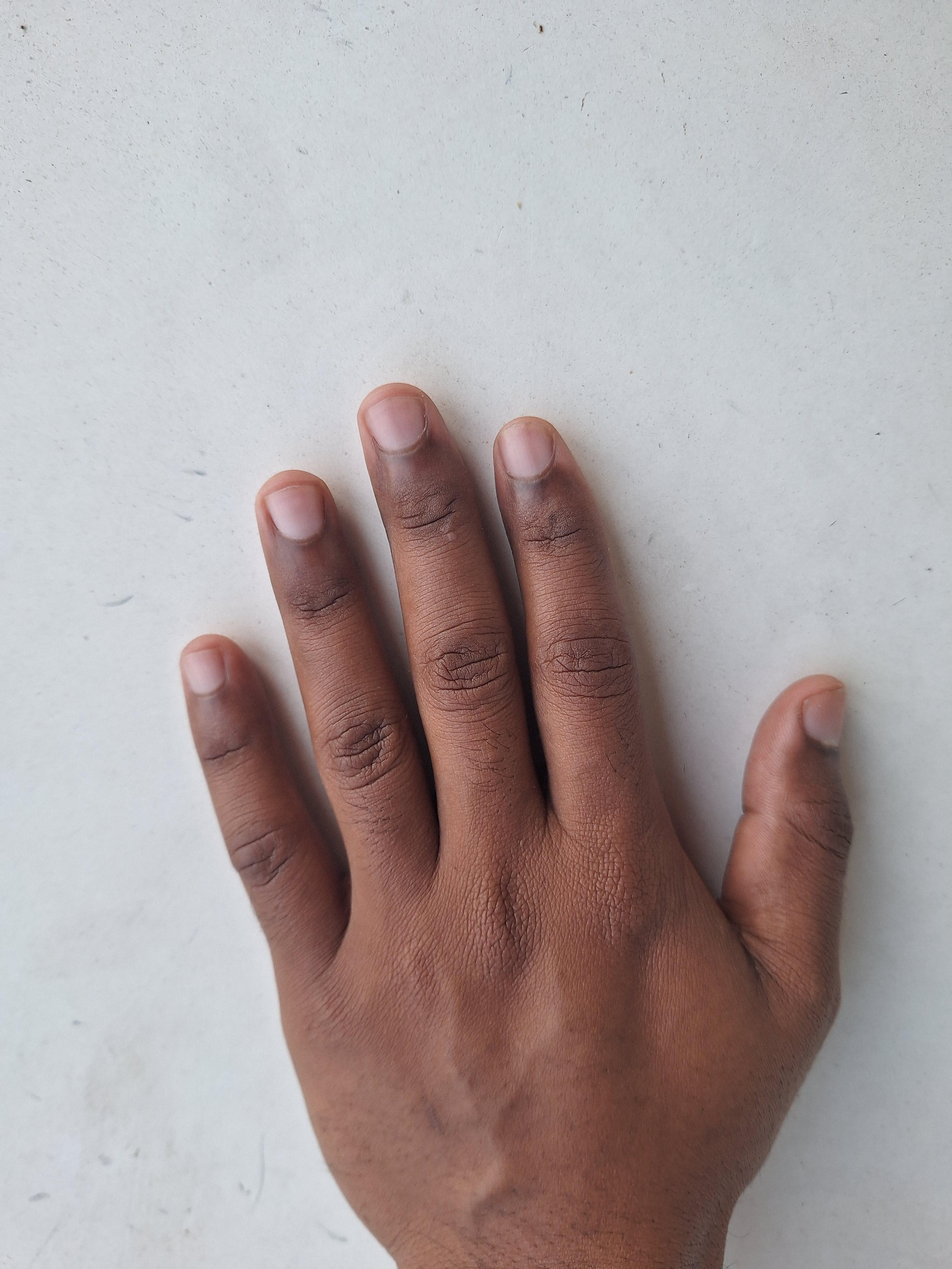Fingernail: (364, 397, 426, 452), (265, 486, 324, 539), (498, 423, 553, 477), (803, 687, 846, 748), (182, 648, 225, 694)
